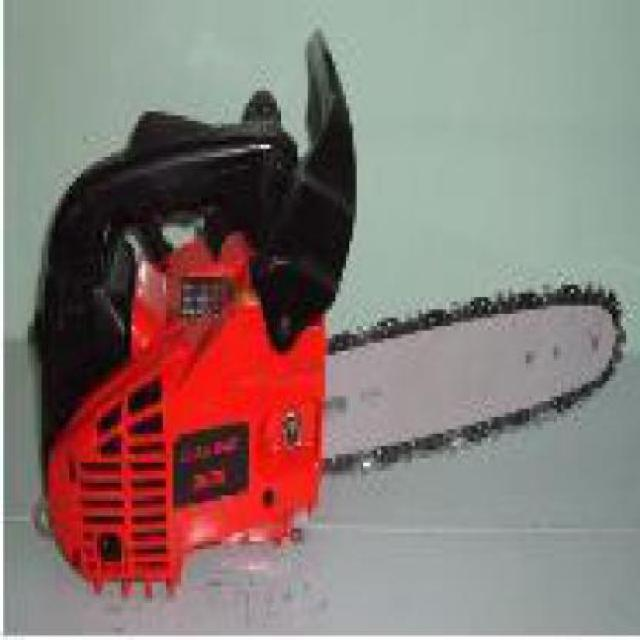Chainsaw: (15, 23, 628, 603)
